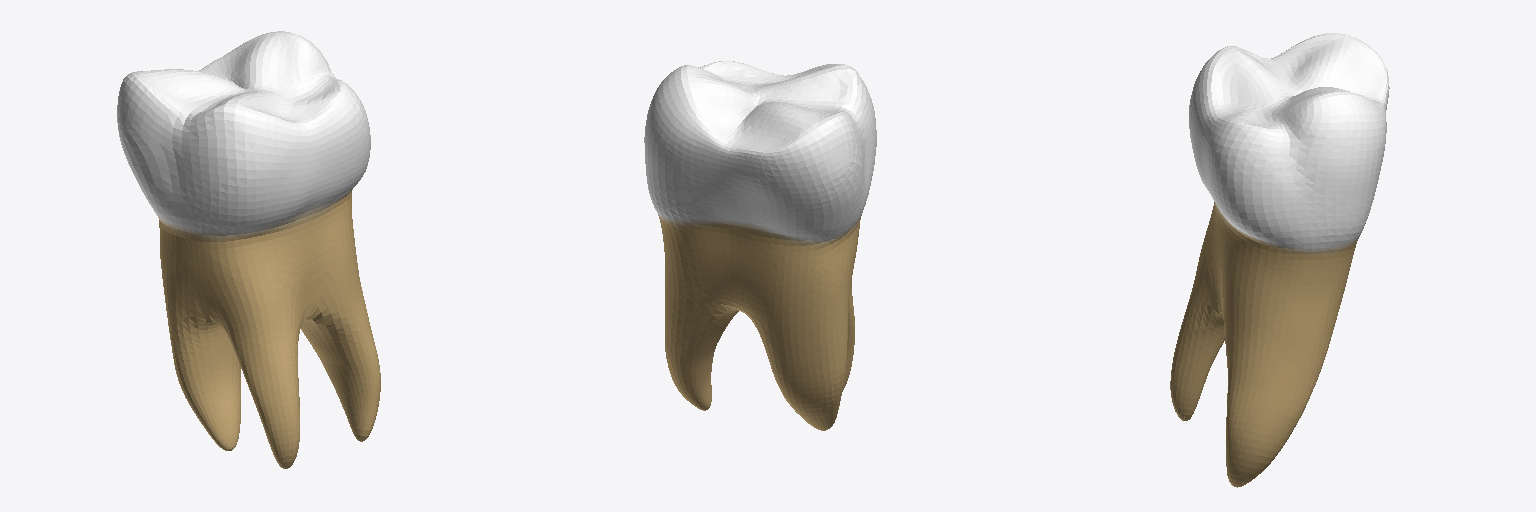
3 views of the same model, side by side, from view 1: azimuth 30°, elevation 25°; view 2: azimuth 150°, elevation 25°; view 3: azimuth 270°, elevation 25° (orthographic).
Visible parts, largest first — view 1: outer; view 2: outer; view 3: outer.
Part boxes in pixels (x1,y1,x2,y2): outer: (117,31,380,468); outer: (644,61,876,430); outer: (1170,33,1389,487).
Bounding box in the file's own units: 4.6 × 7.82 × 4.08.
Materials: 2 (1 with a texture image).